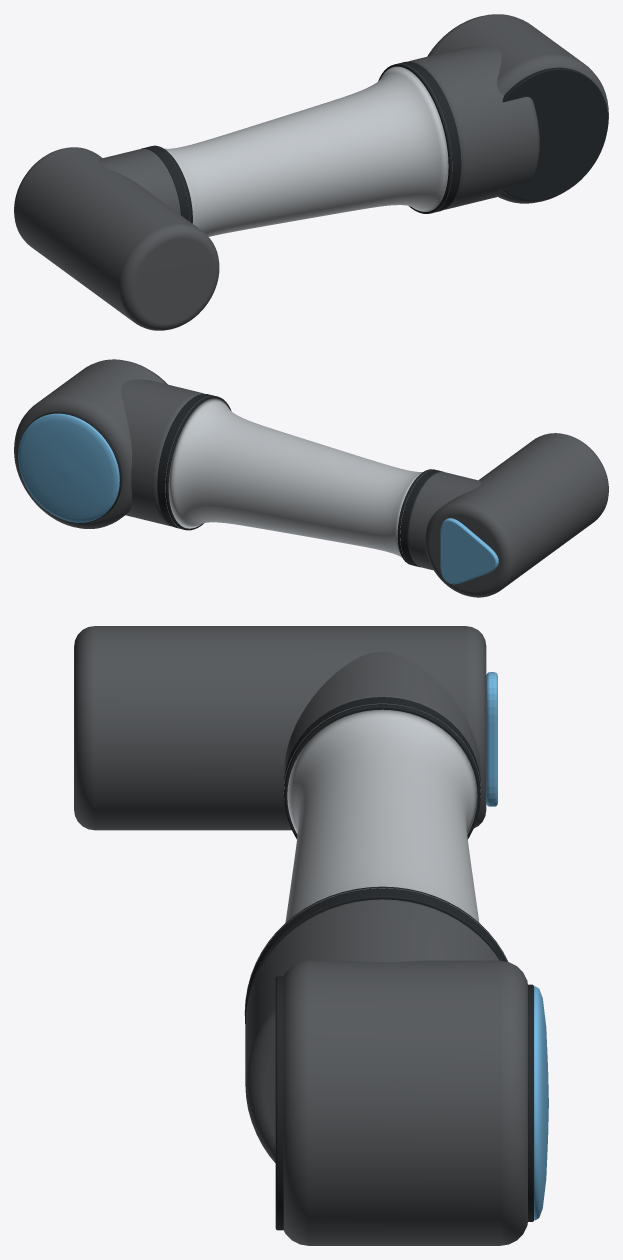
The model's file is forearm_link.obj.
3 renders of one model, top to bottom at view 1: azimuth 30°, elevation 25°; view 2: azimuth 150°, elevation 25°; view 3: azimuth 270°, elevation 25°, orthographic. The views are drawn at different scales.
Parts seen in each view (by area): view 1: forearm_tube, forearm_wrist_housing, forearm_elbow_neck, elbow_bearing_seam, forearm_elbow_housing, forearm_wrist_neck, forearm_elbow_tube_seal, forearm_wrist_tube_seal; view 2: forearm_tube, forearm_wrist_housing, elbow_cap, forearm_elbow_housing, forearm_elbow_neck, forearm_wrist_cap, forearm_wrist_neck, forearm_elbow_tube_seal, forearm_wrist_tube_seal, elbow_cap_gasket; view 3: forearm_elbow_housing, forearm_wrist_housing, forearm_tube, forearm_elbow_neck, forearm_wrist_neck, forearm_elbow_tube_seal, forearm_wrist_tube_seal, elbow_cap, elbow_bearing_seam, forearm_wrist_cap, elbow_cap_gasket.
Part boxes in pixels (box(x1,y1,x2,y2)): forearm_tube: box(150, 63, 452, 236); forearm_wrist_housing: box(14, 147, 219, 330); forearm_elbow_neck: box(408, 45, 539, 209); elbow_bearing_seam: box(502, 67, 608, 200); forearm_elbow_housing: box(427, 14, 608, 203); forearm_wrist_neck: box(99, 149, 180, 214); forearm_elbow_tube_seal: box(378, 61, 461, 213); forearm_wrist_tube_seal: box(141, 145, 192, 223); forearm_tube: box(165, 395, 435, 557); forearm_wrist_housing: box(425, 433, 608, 597); elbow_cap: box(18, 413, 119, 522); forearm_elbow_housing: box(14, 359, 165, 528); forearm_elbow_neck: box(121, 379, 204, 526); forearm_wrist_cap: box(440, 518, 498, 584); forearm_wrist_neck: box(408, 472, 481, 570); forearm_elbow_tube_seal: box(157, 394, 231, 530); forearm_wrist_tube_seal: box(397, 469, 444, 567); elbow_cap_gasket: box(19, 411, 121, 522); forearm_elbow_housing: box(283, 960, 527, 1245); forearm_wrist_housing: box(74, 626, 486, 830); forearm_tube: box(244, 703, 507, 1015); forearm_elbow_neck: box(245, 899, 499, 1163); forearm_wrist_neck: box(284, 652, 480, 779); forearm_elbow_tube_seal: box(245, 886, 508, 1023); forearm_wrist_tube_seal: box(284, 697, 480, 839); elbow_cap: box(534, 986, 548, 1220); elbow_bearing_seam: box(275, 976, 283, 1230); forearm_wrist_cap: box(486, 672, 497, 806); elbow_cap_gasket: box(528, 984, 533, 1221).
Bounding box in the file's own units: 0.6427 × 0.162 × 0.2695.
